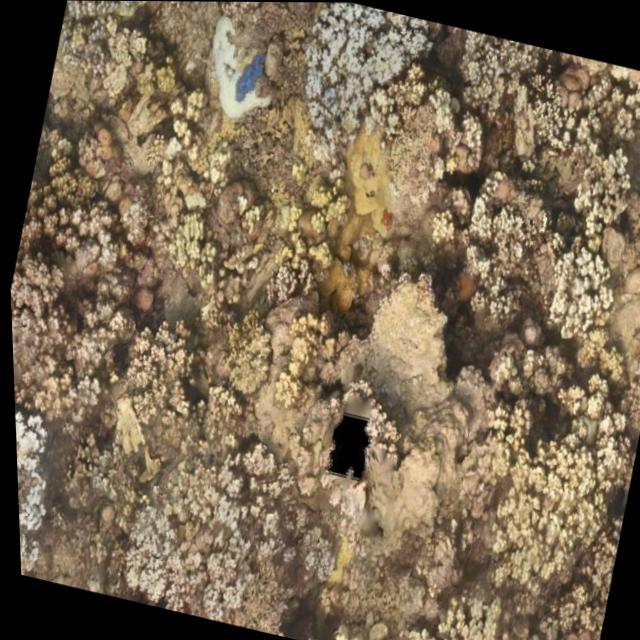Bleached Coral: (285, 2, 421, 145), (192, 454, 287, 612), (121, 507, 185, 591), (12, 406, 55, 464), (64, 0, 151, 28), (14, 481, 52, 540)
